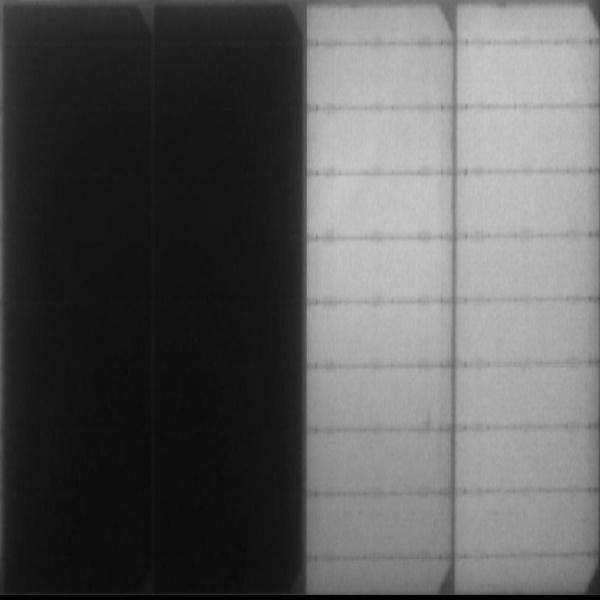no_electricity: (143, 3, 301, 592), (3, 6, 142, 600)
